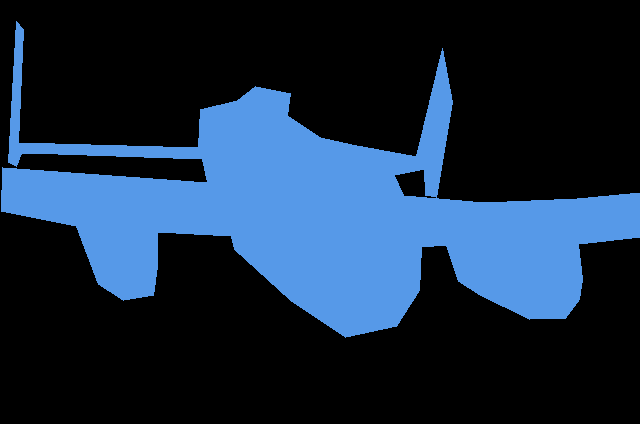Airplane: (1, 21, 640, 338)
